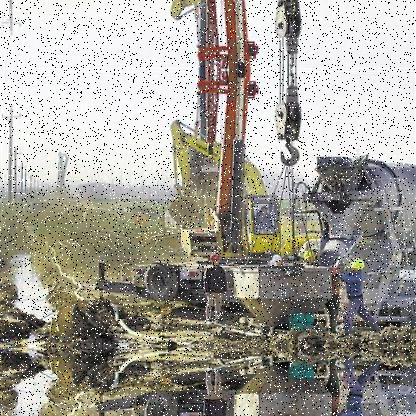Helmet: (206, 250, 224, 275), (347, 254, 365, 278)
